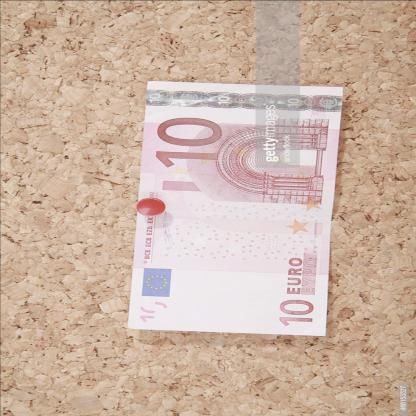euro_banknote: (108, 109, 367, 309)
